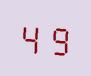four: (19, 18, 44, 55)
nine: (45, 20, 70, 57)
